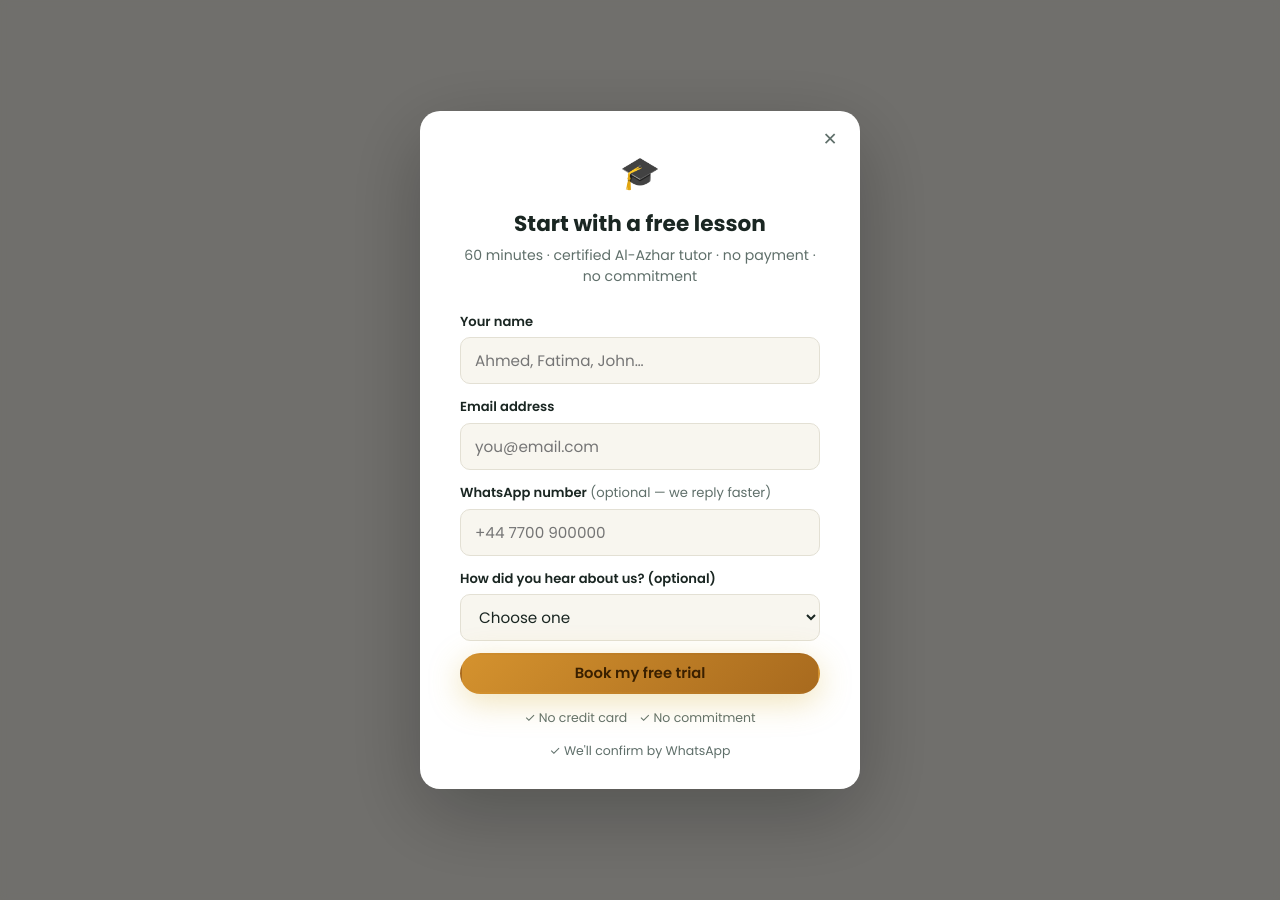
Test: QuickTrialModal › shows no follow-up on a client-side validation error (nothing is sent)
Type "عائشة O'Brien & Co" into the field labelled "Your name".
click(640, 361); type("عائشة O'Brien & Co")  # box [460,338,820,384]
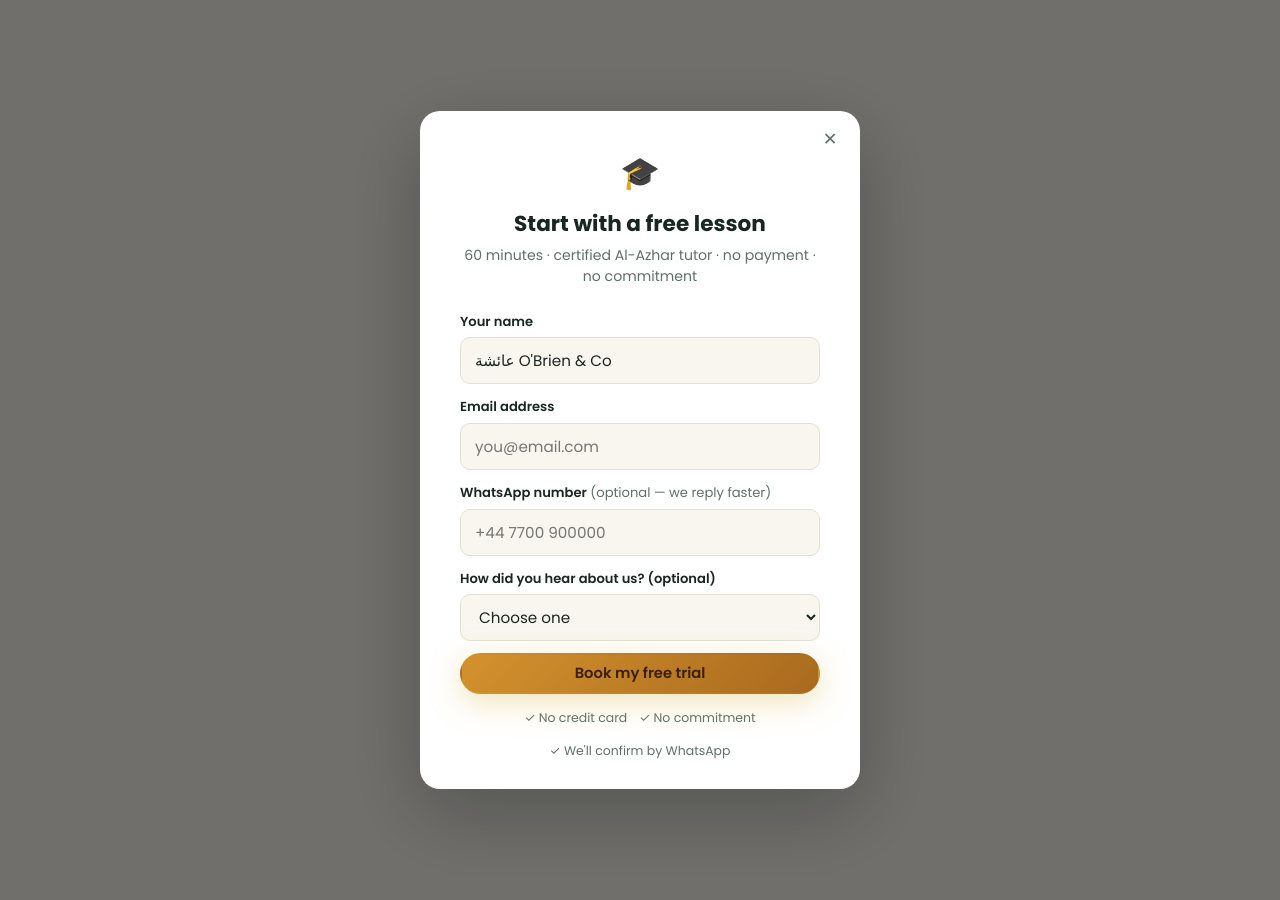
Type "not-an-email" into the field labelled "Email address".
click(640, 447); type("not-an-email")  # box [460,423,820,470]
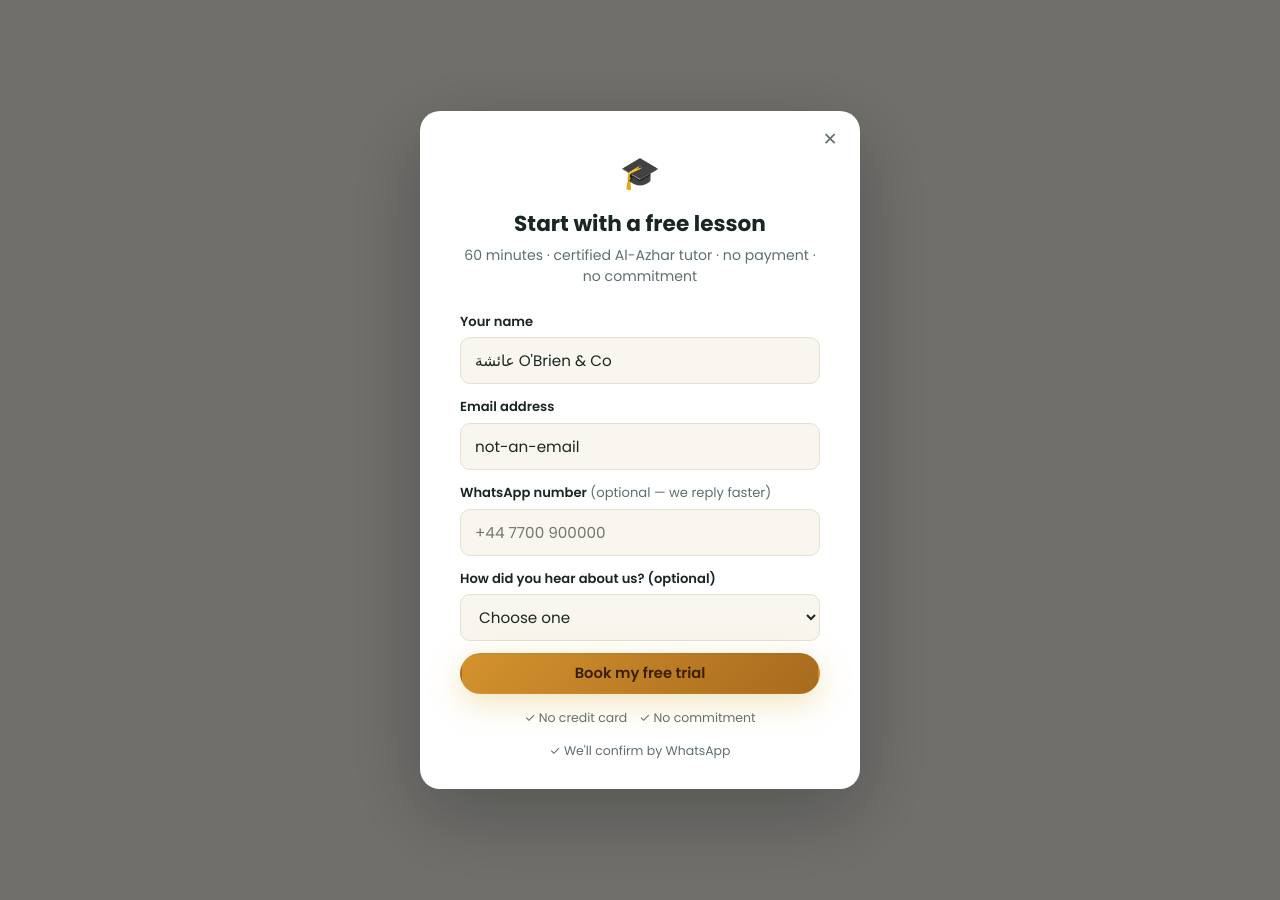
Type "+39 333 123 4567" into the field labelled "WhatsApp number (optional — we reply faster)".
click(640, 532); type("+39 333 123 4567")  # box [460,509,820,556]
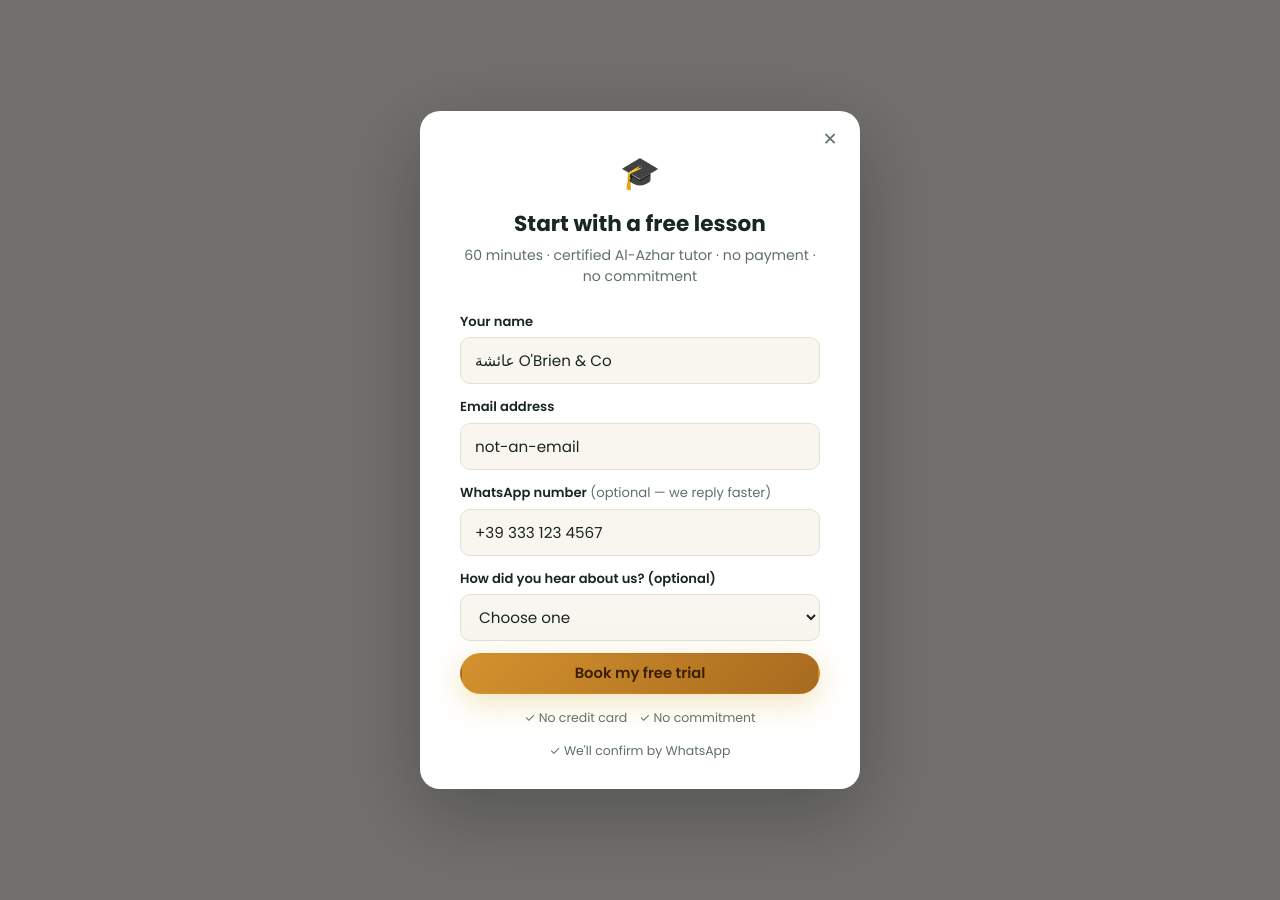
Click the button "Book my free trial".
click(640, 674)  # box [460,653,820,694]
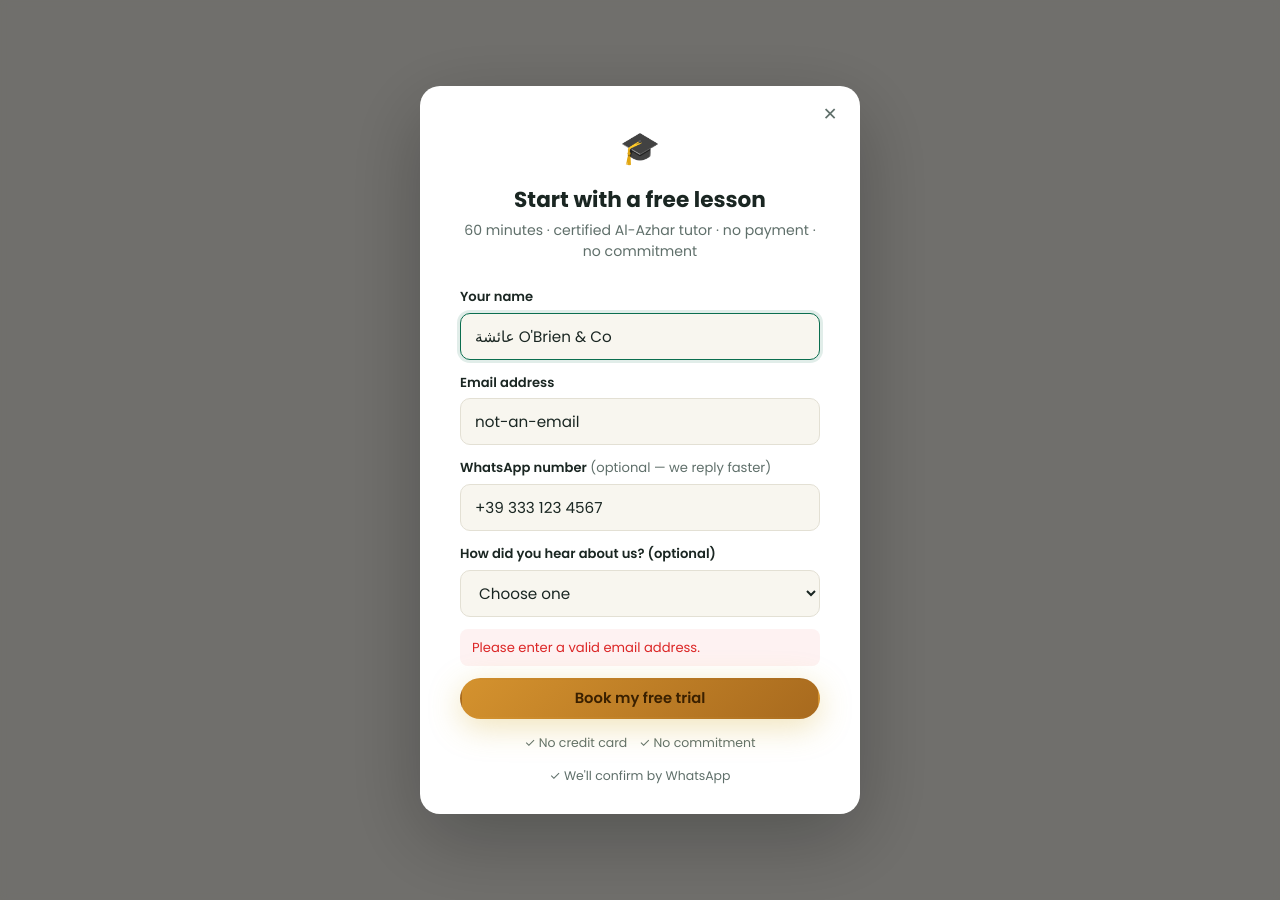
Expected: the message reads "Please enter a valid email address.", [472,638,700,657]
